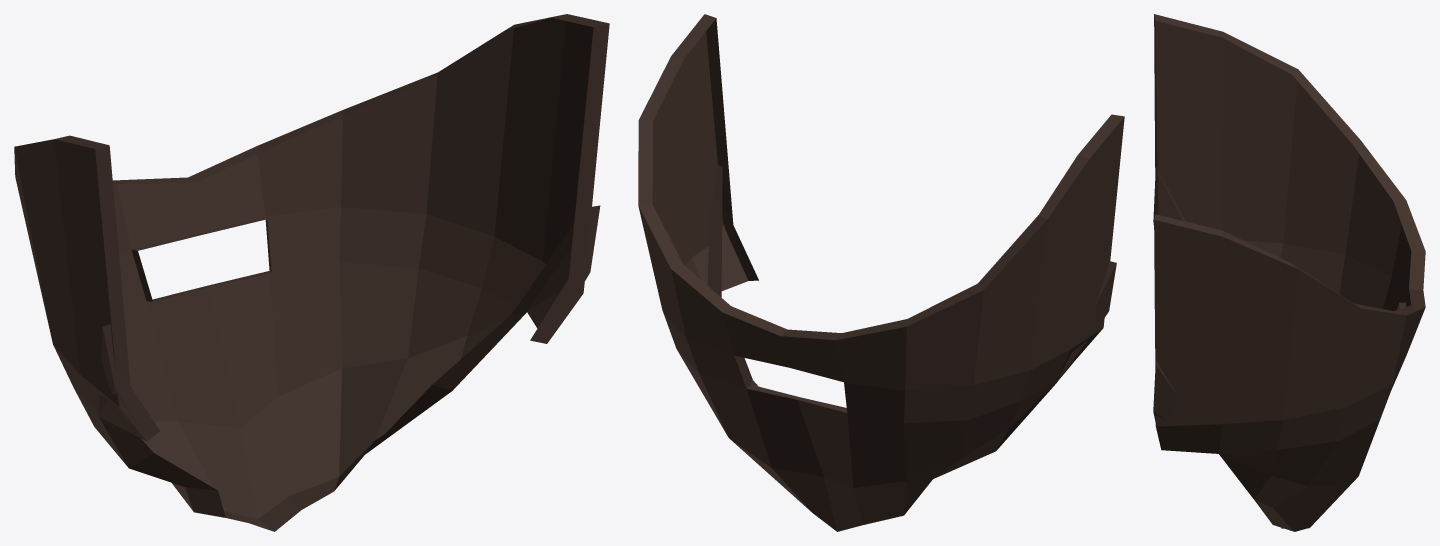
Rendered from lwf_beard_male_v1.glb.
The picture shows the model from 3 angles, left to right: view 1: azimuth 30°, elevation 25°; view 2: azimuth 150°, elevation 25°; view 3: azimuth 270°, elevation 25°; orthographic projection. The views are drawn at different scales.
Parts seen in each view (by area): view 1: LWF_Beard; view 2: LWF_Beard; view 3: LWF_Beard.
Boxes of the visible parts, x1,y1,x2,y2 form: LWF_Beard: (14, 14, 609, 531); LWF_Beard: (638, 14, 1124, 531); LWF_Beard: (1153, 14, 1425, 531).
Size of the model in its own units: 0.2168 by 0.2023 by 0.1213.
1 material, 1 textured.
